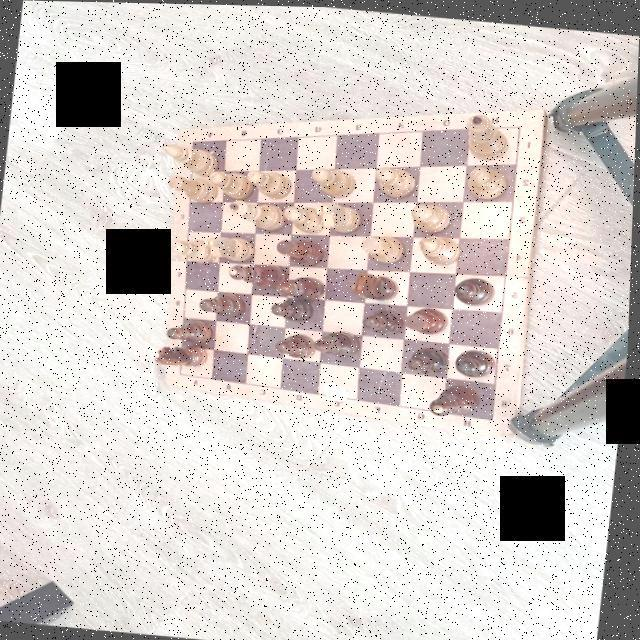chess-table-corners: (515, 120, 523, 128), (177, 369, 186, 376), (490, 414, 500, 420), (190, 138, 196, 143)
